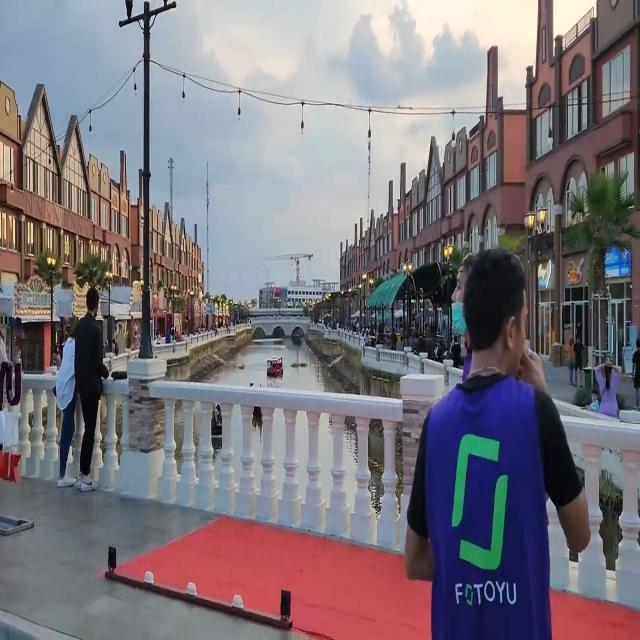hairnet: (448, 266, 469, 334)
